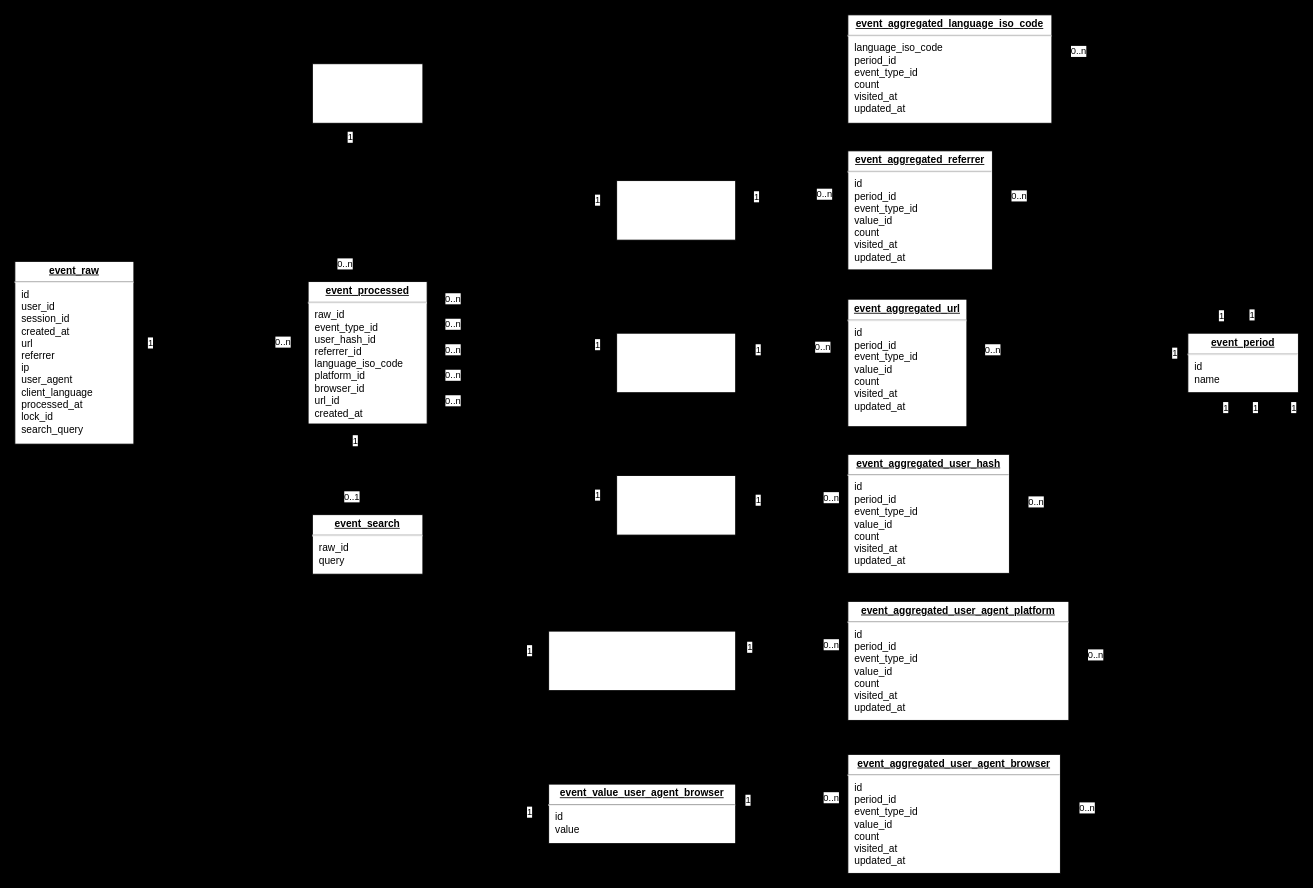
Image size: 1313x888. Some labels were removed from this diagram. The shapes that lost their labels are listed below. From the top down, each one's centre as x and y in pixels, then its label:
(x=367, y=93): event_type id name
(x=676, y=210): event_value_referrer id value
(x=676, y=362): event_value_url id value
(x=676, y=505): event_value_user_hash id value
(x=642, y=660): event_value_user_agent_platform id value
